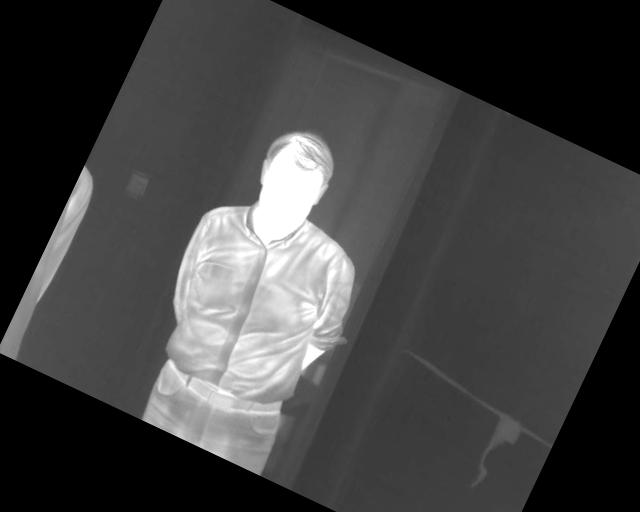face: (236, 116, 348, 246)
